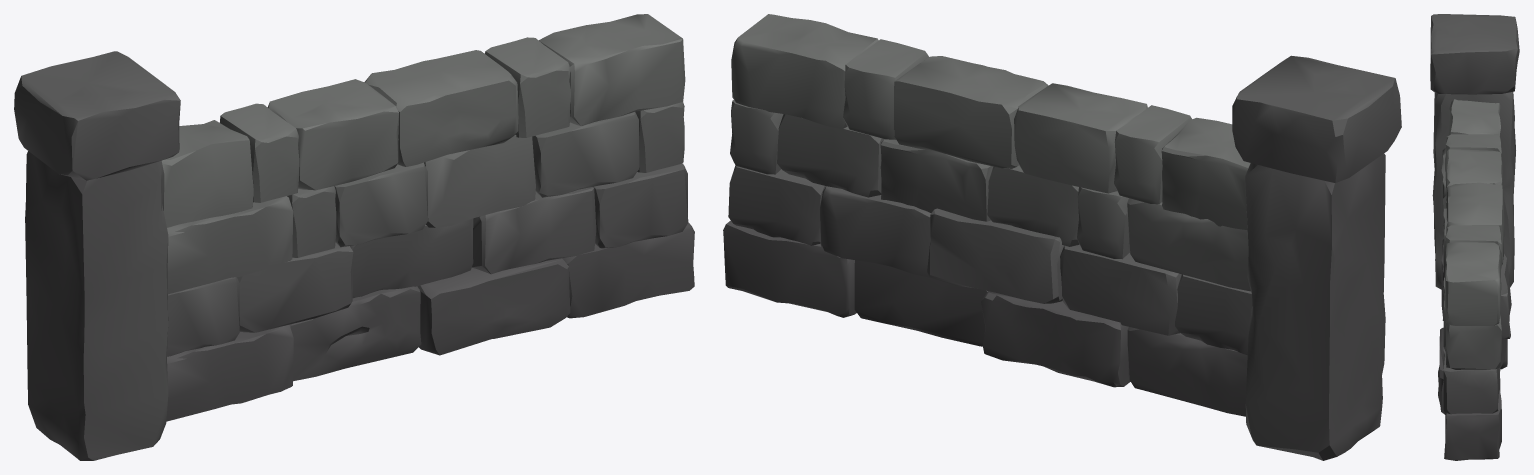
File: BrickWall_2.fbx
3 renders of one model, left to right at view 1: azimuth 30°, elevation 25°; view 2: azimuth 150°, elevation 25°; view 3: azimuth 270°, elevation 25°, orthographic. The views are drawn at different scales.
Parts seen in each view (by area): view 1: BrickWall_2; view 2: BrickWall_2; view 3: BrickWall_2.
Boxes of the visible parts, bbox=[...] form: BrickWall_2: bbox=[14, 14, 694, 460]; BrickWall_2: bbox=[723, 14, 1401, 460]; BrickWall_2: bbox=[1430, 14, 1519, 460].
Bounding box in the file's own units: 340 × 180 × 58.85.
